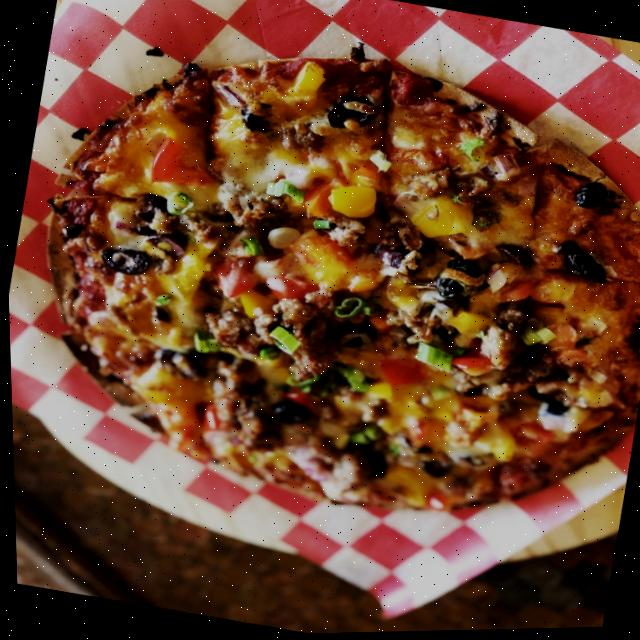black_olives: (547, 238, 613, 291), (324, 88, 376, 137), (96, 241, 152, 282), (521, 386, 573, 424), (230, 95, 273, 135), (265, 395, 309, 432), (567, 179, 613, 214), (426, 272, 466, 306), (491, 242, 537, 271), (413, 456, 450, 488), (440, 255, 477, 284)
pizza: (0, 0, 640, 563)
tomatoes: (137, 134, 221, 195), (204, 250, 260, 307), (258, 268, 322, 313), (507, 419, 559, 461), (443, 350, 497, 388), (371, 354, 424, 392), (493, 274, 542, 313), (293, 182, 335, 222), (191, 403, 228, 430), (419, 486, 451, 513), (281, 386, 311, 409)
